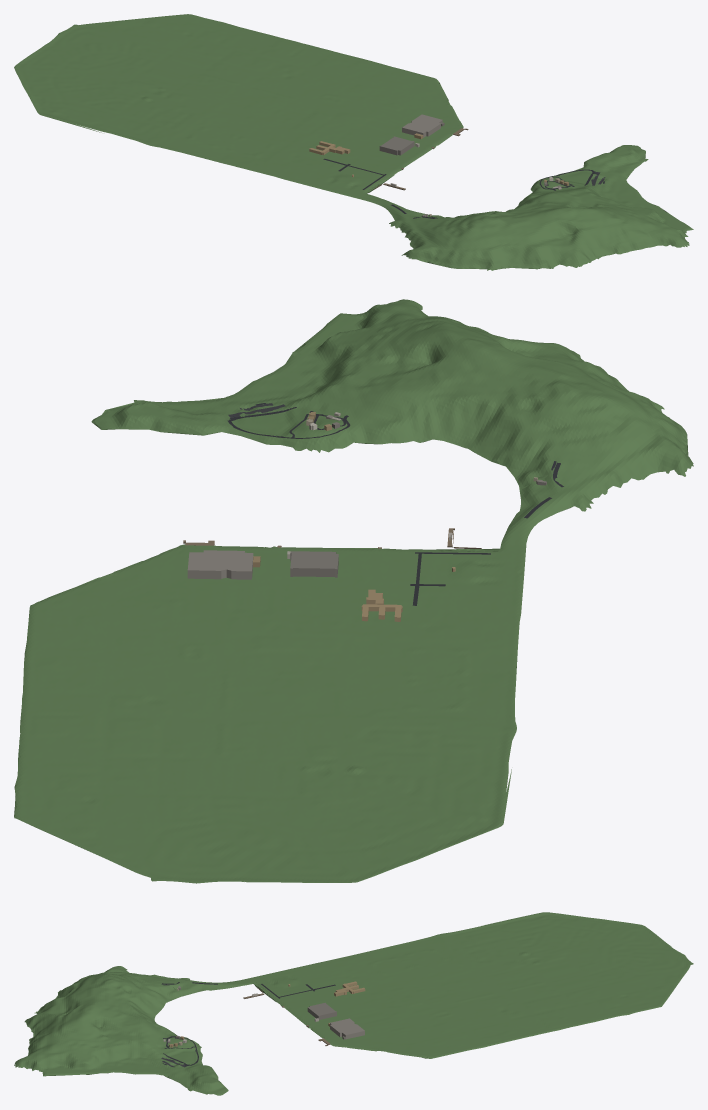
The model's file is tile_17_7.glb.
3 renders of one model, top to bottom at view 1: azimuth 30°, elevation 25°; view 2: azimuth 150°, elevation 25°; view 3: azimuth 270°, elevation 25°, orthographic. The views are drawn at different scales.
Visible parts, largest first — view 1: grn_17_7, bld_17_7, road_17_7; view 2: grn_17_7, bld_17_7, road_17_7; view 3: grn_17_7, bld_17_7, road_17_7.
Part boxes in pixels (x1,y1,x2,y2): grn_17_7: (14, 14, 693, 270); bld_17_7: (309, 114, 568, 216); road_17_7: (323, 158, 605, 218); grn_17_7: (14, 299, 693, 883); bld_17_7: (187, 412, 546, 621); road_17_7: (227, 403, 563, 605); grn_17_7: (14, 912, 693, 1095); bld_17_7: (163, 981, 365, 1047); road_17_7: (161, 982, 335, 1067).
Bounding box in the file's own units: 1777 × 108 × 2799.
